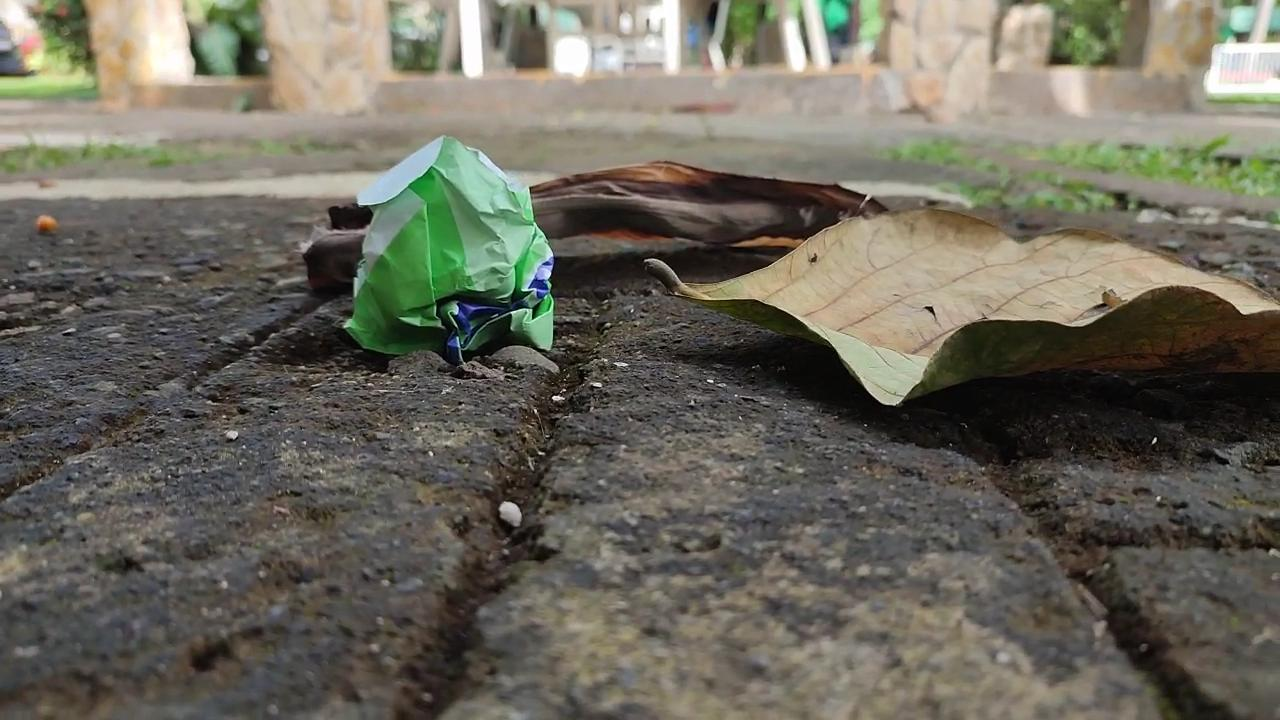Paper: (332, 118, 565, 373)
